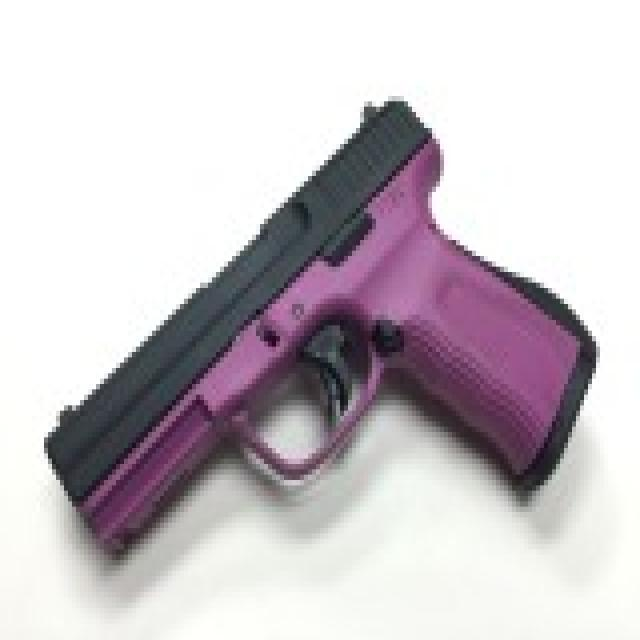Gun: (24, 90, 603, 585)
